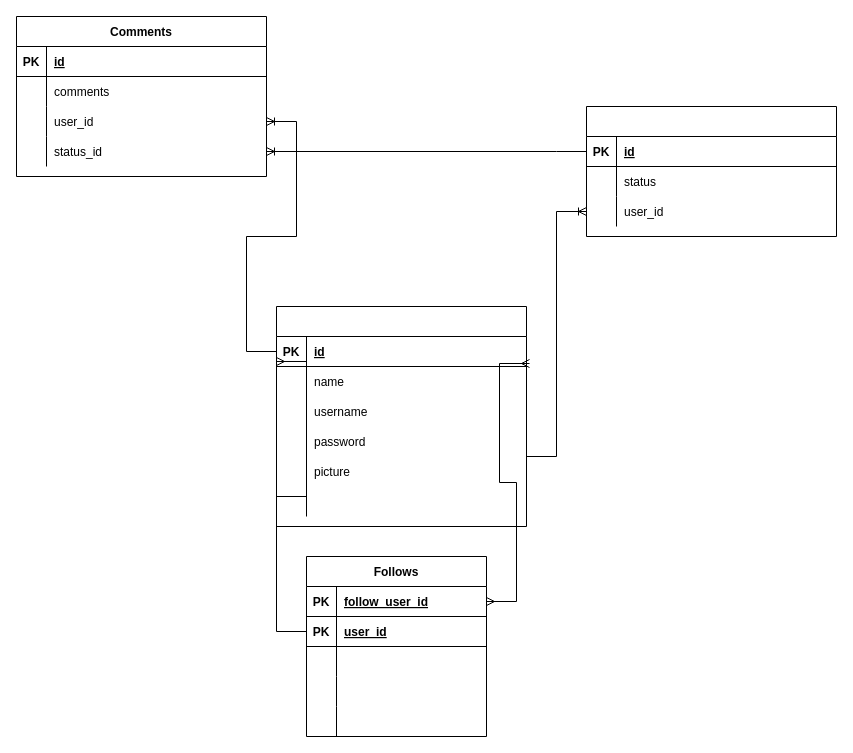
This 853x753 diagram has some shape labels left out. The box of each missing label's shape, as (x1, y1, x2, y2) in pixels:
Statuses: (586, 106, 836, 236)
Users: (276, 306, 526, 526)
